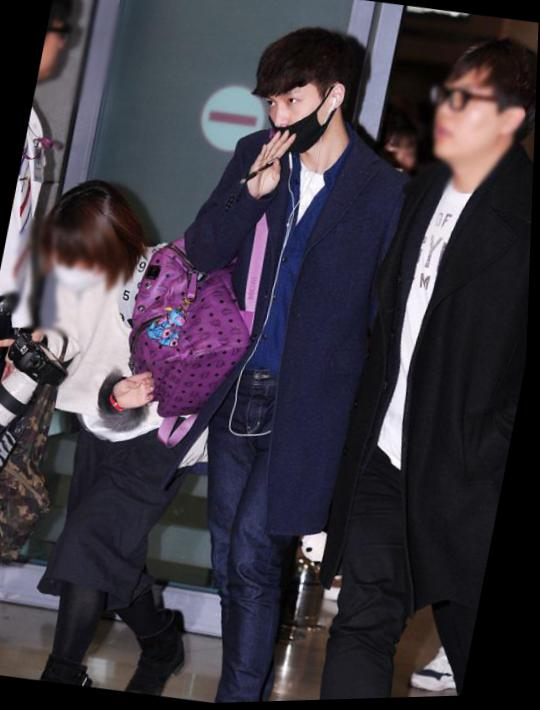NONE: (428, 73, 514, 170)
WRONG: (251, 70, 342, 161)
